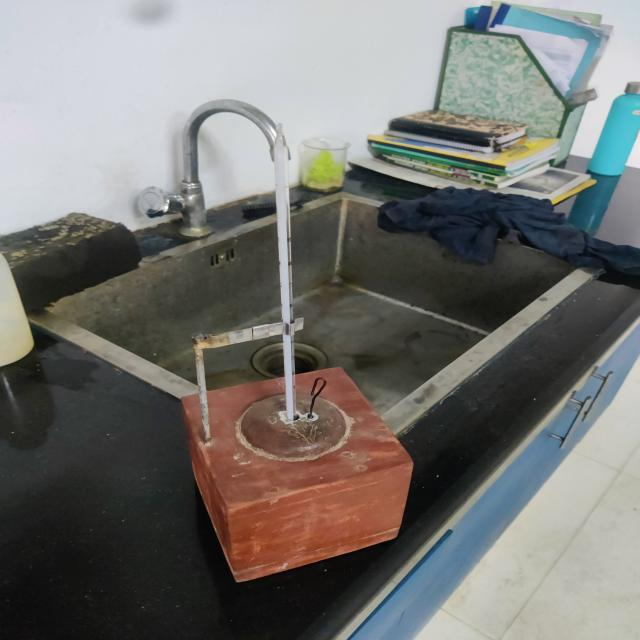Calorimeter: (150, 115, 433, 601)
